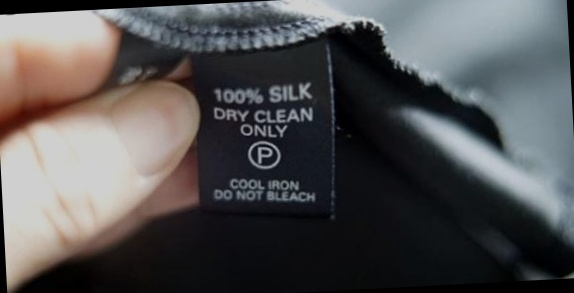dry_clean_any_solvent_except_trichloroethylene: (248, 138, 283, 170)
